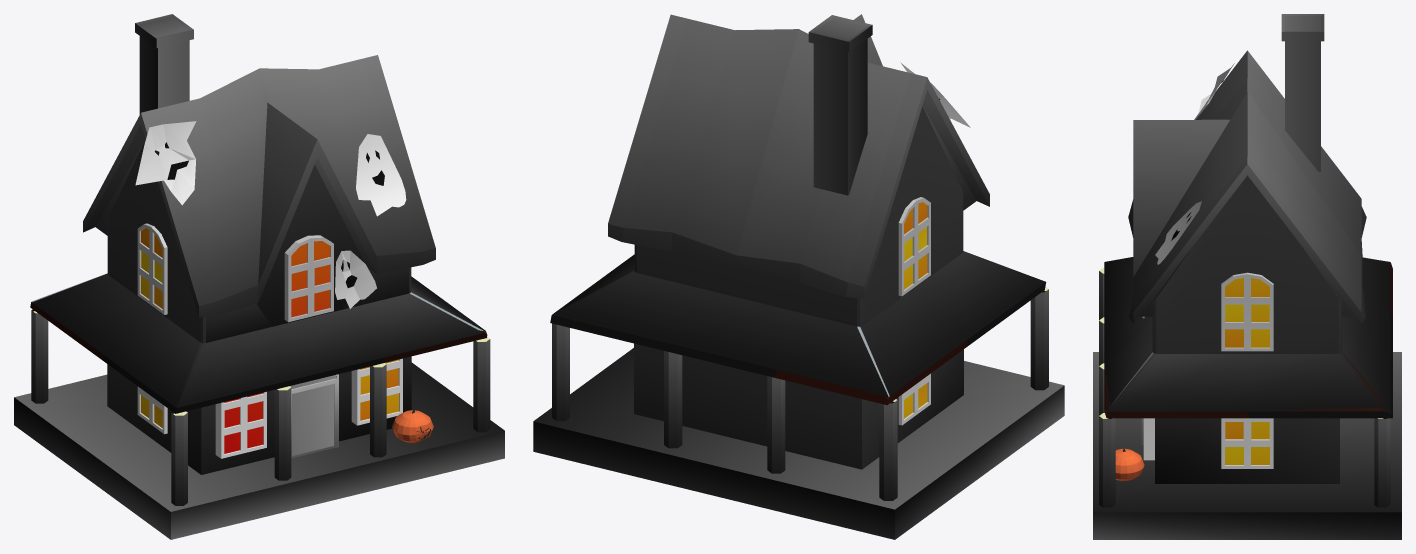
The model's file is SM_Hunted_House.fbx.
3 views of the same model, side by side, from view 1: azimuth 30°, elevation 25°; view 2: azimuth 150°, elevation 25°; view 3: azimuth 270°, elevation 25° (orthographic). The views are drawn at different scales.
Visible parts, largest first — view 1: Hunted_House, Ghost_Sticker.001, Ghost_Sticker, Ghost_Sticker.002, Pumpkin_Mash; view 2: Hunted_House; view 3: Hunted_House, Pumpkin_Mash, Ghost_Sticker.
Boxes of the visible parts, x1,y1,x2,y2 form: Hunted_House: [14, 14, 504, 539]; Ghost_Sticker.001: [135, 121, 196, 205]; Ghost_Sticker: [356, 134, 406, 216]; Ghost_Sticker.002: [335, 250, 376, 308]; Pumpkin_Mash: [392, 409, 433, 442]; Hunted_House: [533, 14, 1064, 539]; Hunted_House: [1093, 14, 1401, 539]; Pumpkin_Mash: [1115, 448, 1144, 480]; Ghost_Sticker: [1155, 201, 1201, 264].
Bounding box in the file's own units: 12.91 × 15.19 × 10.5.
